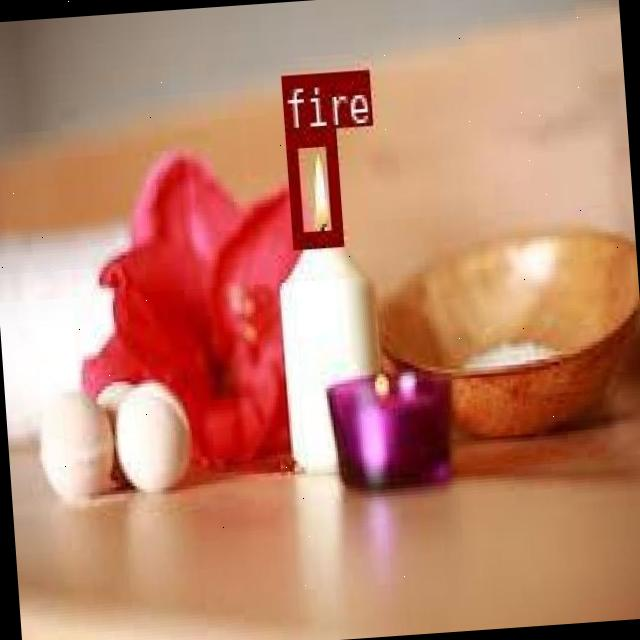fire: (284, 127, 340, 246)
